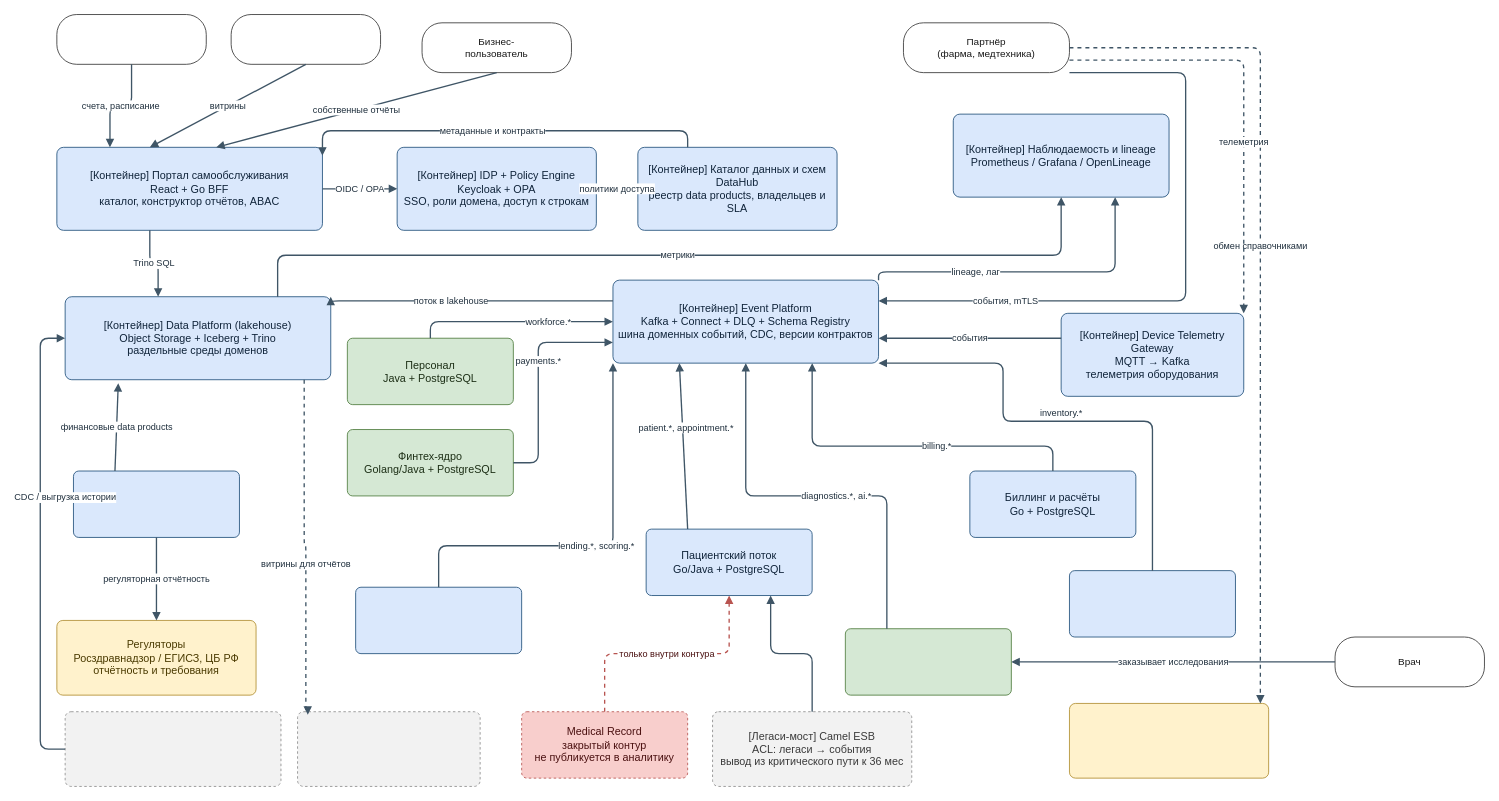
The diagram is 1499 pixels wide and 801 high, and some of its shapes have lost their labels. The centre of each missing label's shape, as x and y in pixels:
[Легаси-мост] DWH SQL Server 2008 CDC → lakehouse, затем read-only: the point at 172,748
BI-аналитик домена: the point at 305,39
Power BI регламентные отчёты (сохраняется): the point at 388,748
Аптека и снабжение Go + PostgreSQL: the point at 1152,603
Диагностика и ИИ Python + GPU-пул: the point at 928,661
Корпоративные финансы Python + Iceberg: the point at 156,503
Кредитование Java + PostgreSQL: the point at 438,620
Оператор клиники: the point at 131,39
Партнёрские системы фарма, производитель мед. электроники: the point at 1169,740
